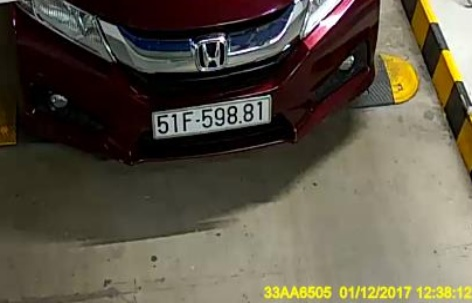plate: (148, 93, 276, 138)
